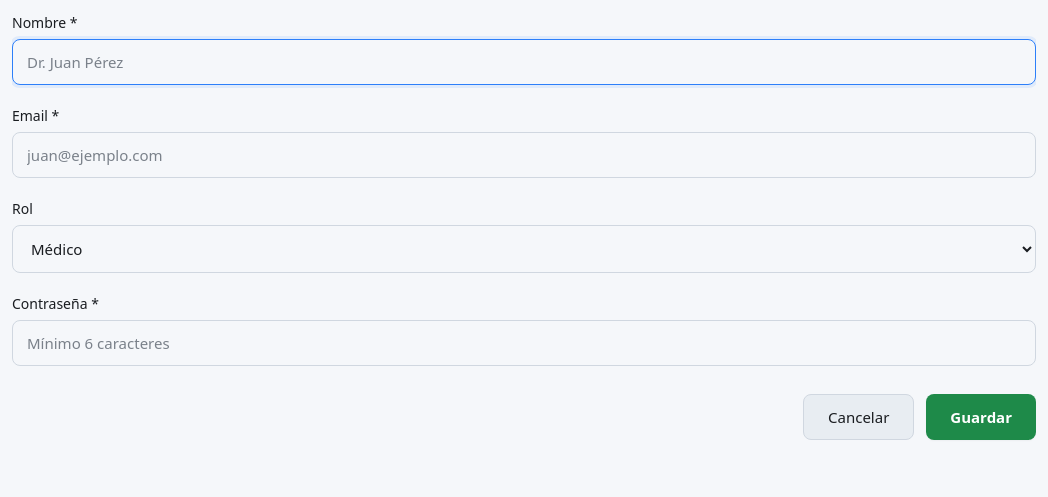
Test case: MedicoForm › shows validation error when email is invalid
Type "Dr. Test" into the field labelled "Nombre *". click: (524, 62)
box: [12,39,1036,85]
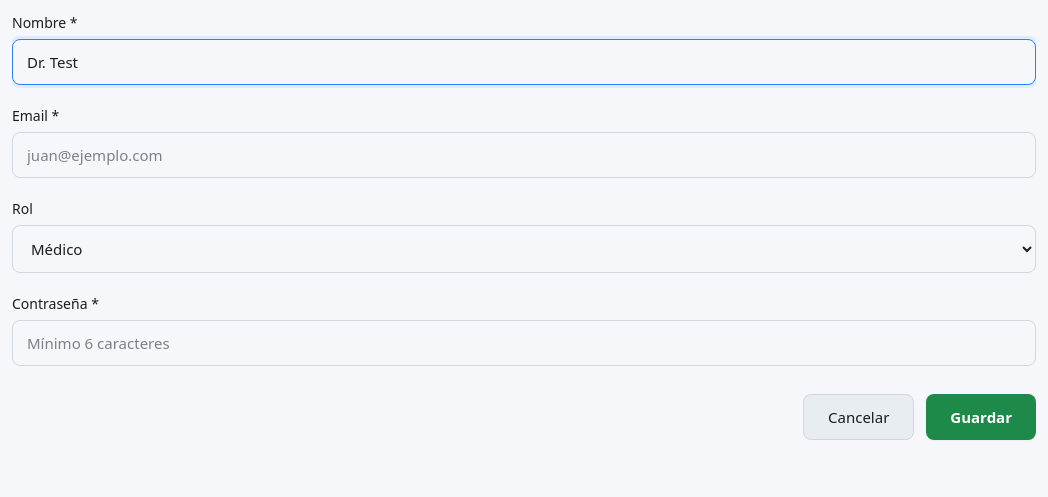
Type "not-an-email" into the field labelled "Email *". click: (524, 155)
box: [12,132,1036,178]
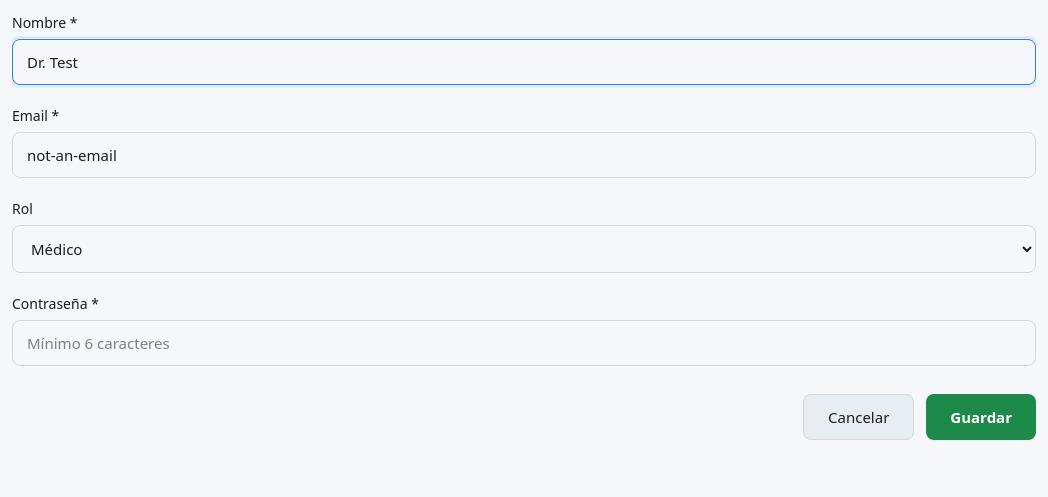
Submit the form with test id "medico-form"
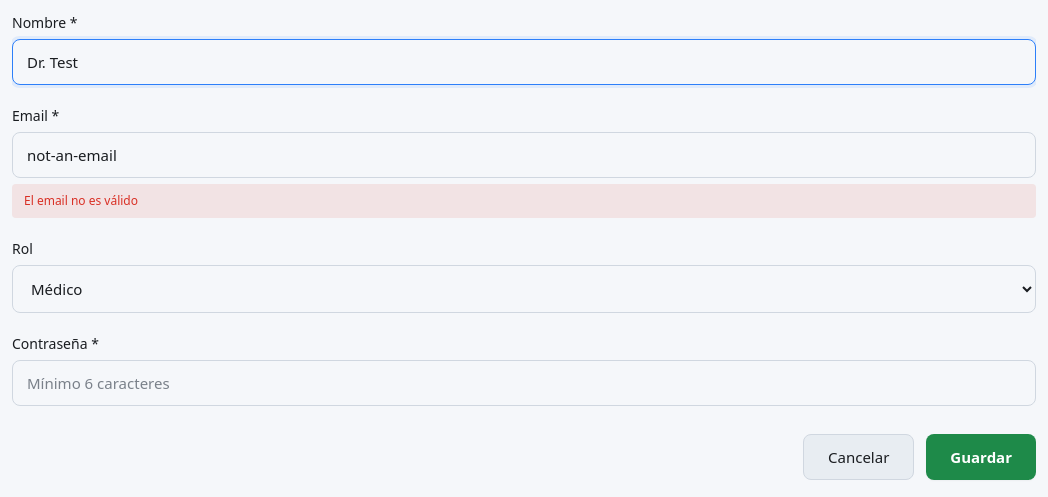
Expected: the text "El email no es válido" is shown, [12,184,1036,218]
